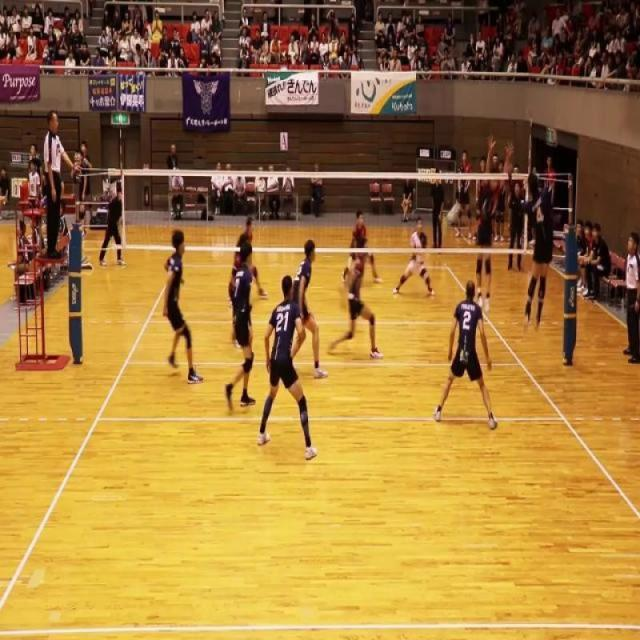volleyball: (447, 202, 462, 226)
